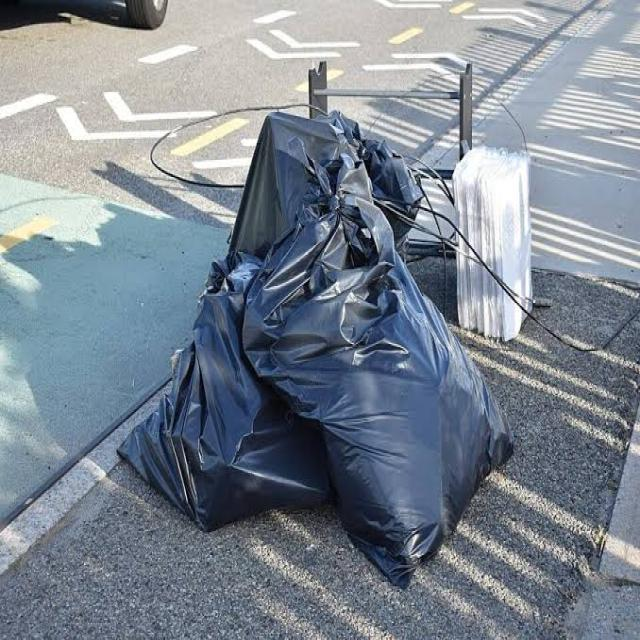plastic bag: (118, 213, 509, 582)
